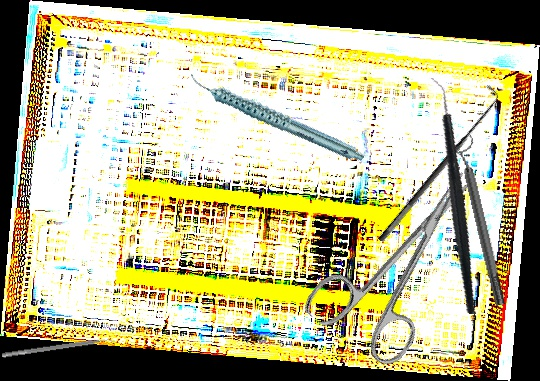Chopper: (377, 77, 526, 315)
Fixation Ring: (447, 134, 513, 309)
Handpiece: (187, 39, 366, 195)
Hook Surgical: (366, 83, 508, 245)
Iris Scissors: (299, 145, 515, 376)
Spatula Surgical: (1, 335, 118, 363)
